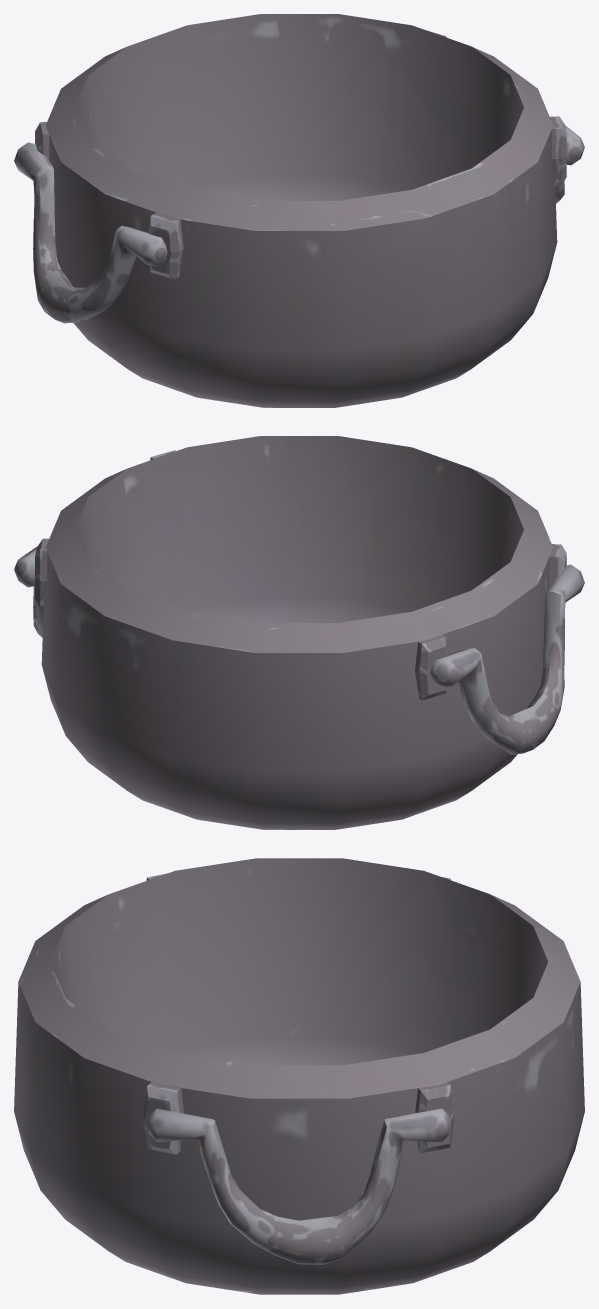
The model's file is Pot_1.glb.
3 views of the same model, one above another, from view 1: azimuth 30°, elevation 25°; view 2: azimuth 150°, elevation 25°; view 3: azimuth 270°, elevation 25° (orthographic). The views are drawn at different scales.
Parts seen in each view (by area): view 1: Pot_1; view 2: Pot_1; view 3: Pot_1.
Boxes of the visible parts, x1,y1,x2,y2 form: Pot_1: (14,14,584,407); Pot_1: (14,436,584,829); Pot_1: (14,858,584,1294).
Bounding box in the file's own units: 0.5393 × 0.2238 × 0.4861.
1 material, 1 textured.
